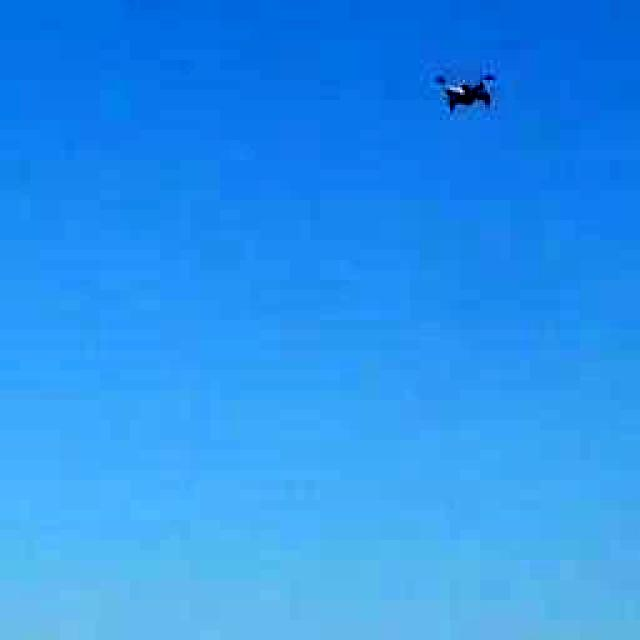bird: (436, 59, 501, 121)
